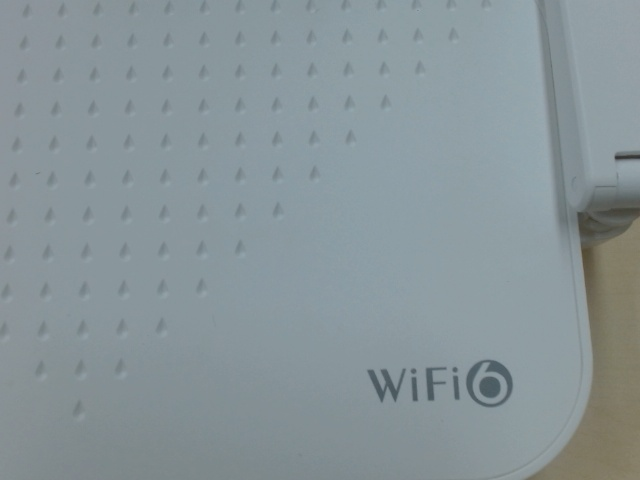AK_ZTEWIFI6: (358, 351, 520, 415)
